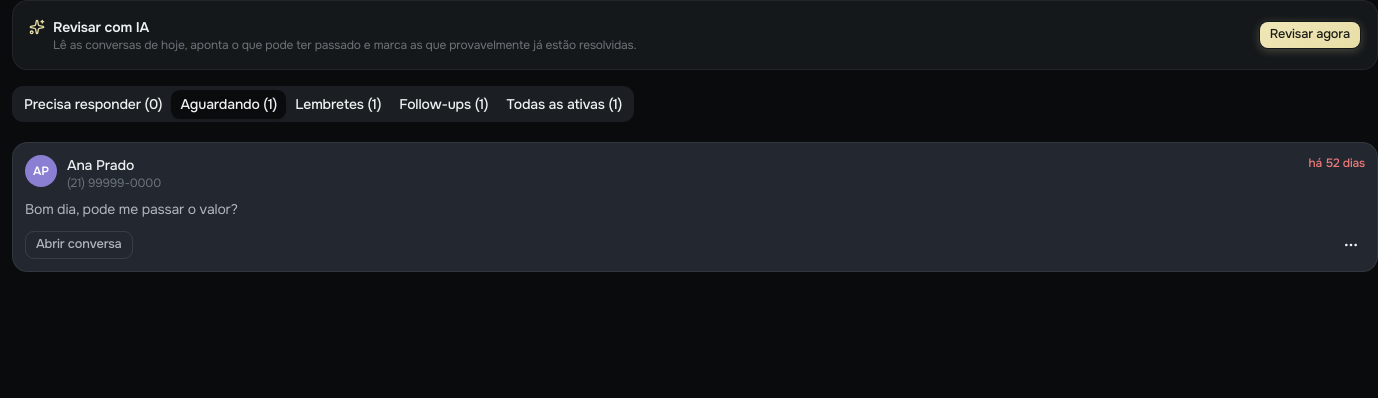
it: Central de pendências unificada › um único botão de IA traz a análise do dia e marca as já resolvidas
The width and height of the screenshot is (1378, 398).
Click the button "Revisar agora" at (1310, 35), box [1259,21,1361,49]
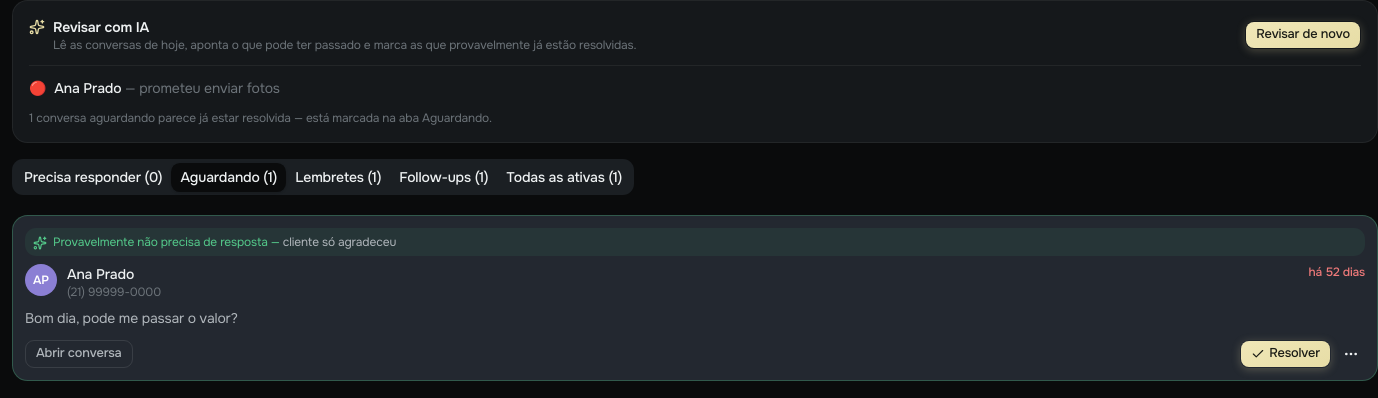
Result: the text "— prometeu enviar fotos" is shown at [121,79,280,97]
Result: the text "cliente só agradeceu" is shown at [283,234,396,250]
